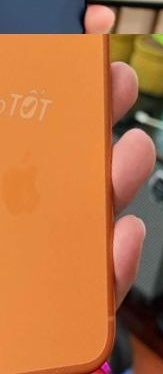scratch: (0, 34, 163, 374)
